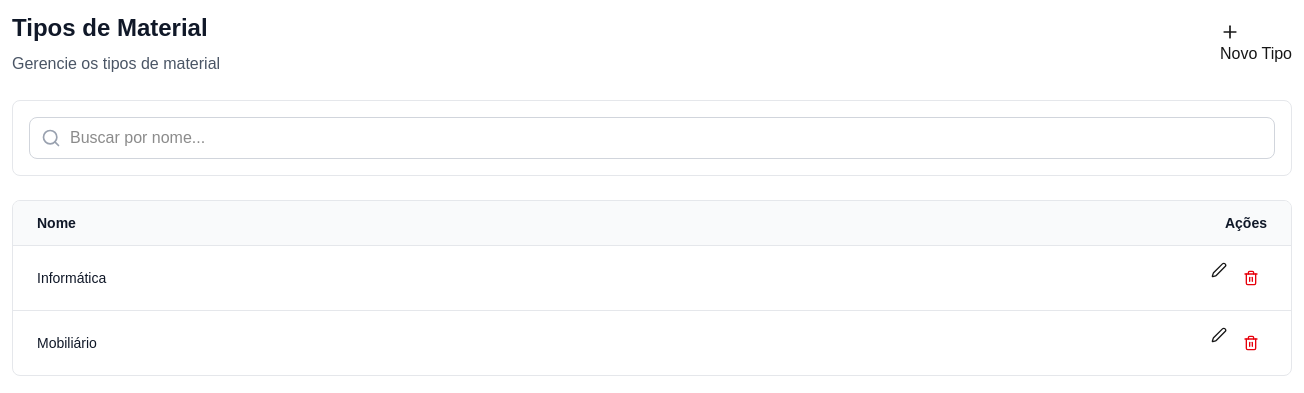
Test case: TiposMaterialList › delete com sucesso remove da lista e exibe toast
The width and height of the screenshot is (1304, 393).
Check: the text "Informática" is shown, box [13,246,690,310]
Click the button without text in the row of "Informática".
click(1251, 278)  # box [1235,262,1267,294]
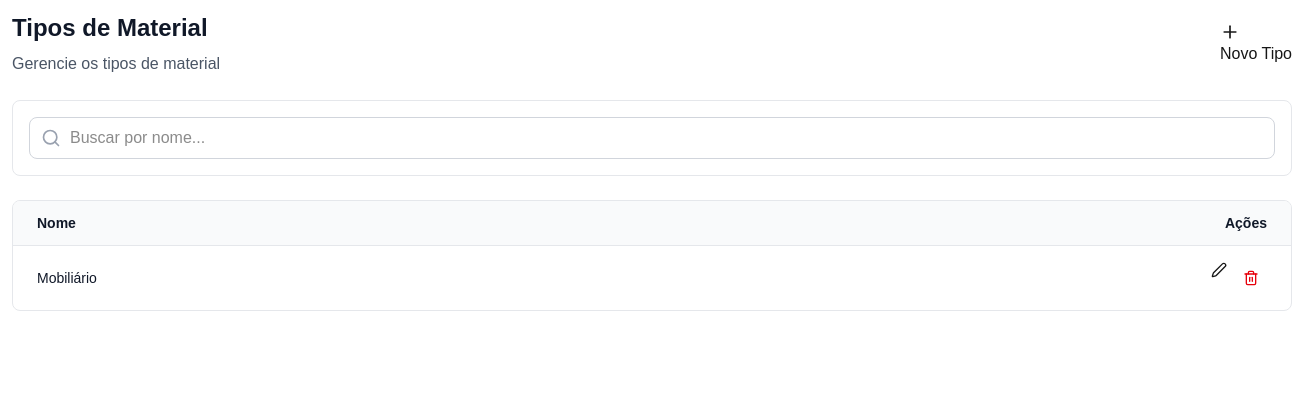
Check: the text "Informática" is gone
